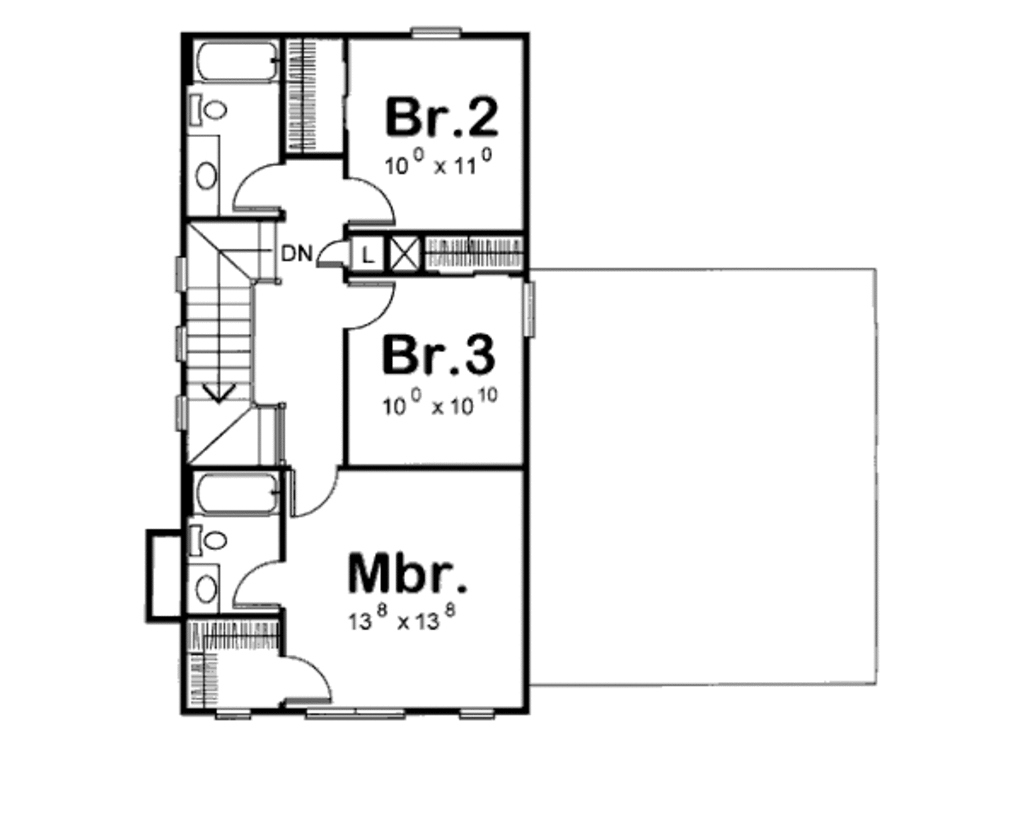door: (334, 169, 410, 230), (284, 466, 351, 522), (232, 554, 290, 609), (234, 157, 287, 214), (281, 654, 340, 703), (343, 282, 400, 328)
large_sink: (179, 87, 242, 136), (190, 518, 236, 559)
small_sink: (185, 133, 224, 218), (188, 562, 229, 616)
stairs: (185, 216, 273, 460)
tub: (192, 458, 283, 516), (187, 40, 287, 90)
window: (404, 18, 466, 46), (516, 274, 541, 340), (302, 707, 409, 722), (204, 705, 266, 730), (166, 249, 191, 299), (170, 318, 195, 366), (170, 396, 191, 446), (460, 709, 495, 724)
